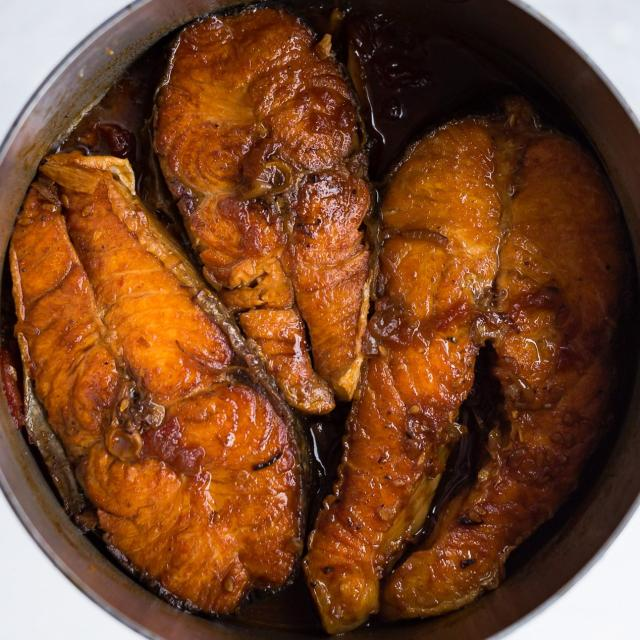ca kho: (10, 8, 623, 633)
